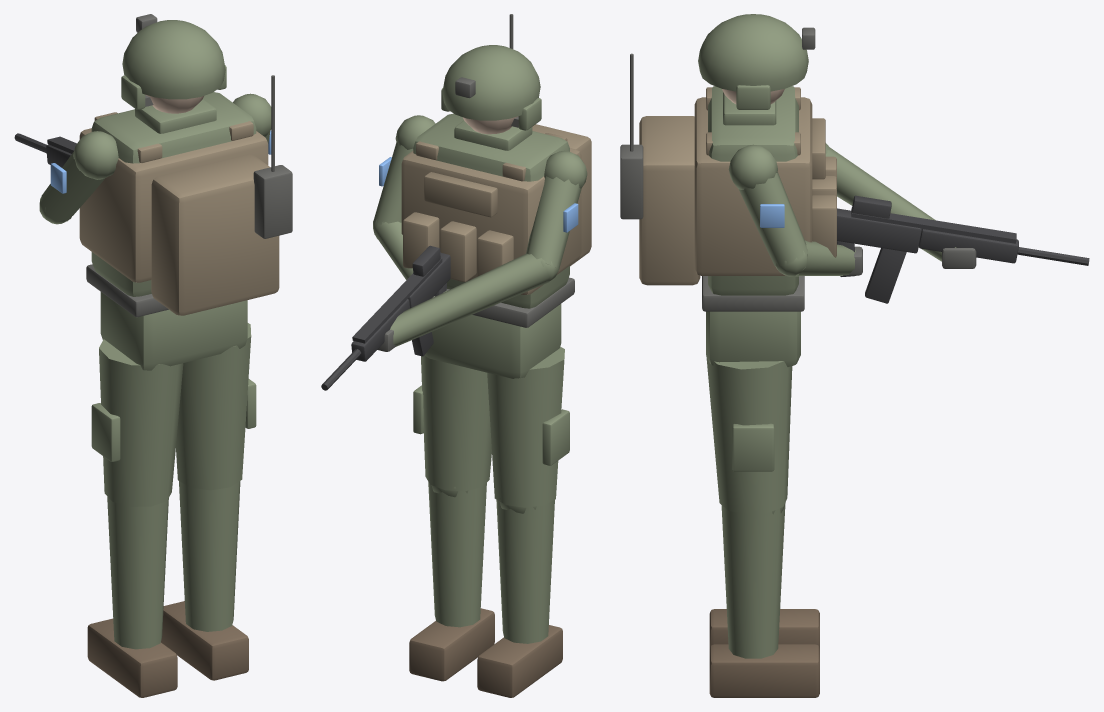
Rendered from soldier.glb.
3 views of the same model, side by side, from view 1: azimuth 30°, elevation 25°; view 2: azimuth 150°, elevation 25°; view 3: azimuth 270°, elevation 25° (orthographic). The views are drawn at different scales.
Visible parts, largest first — view 1: Soldier; view 2: Soldier; view 3: Soldier.
Boxes of the visible parts, x1,y1,x2,y2 form: Soldier: (14, 14, 292, 697); Soldier: (321, 14, 591, 697); Soldier: (620, 14, 1089, 697).
Bounding box in the file's own units: 0.6321 × 1.9 × 1.23.
